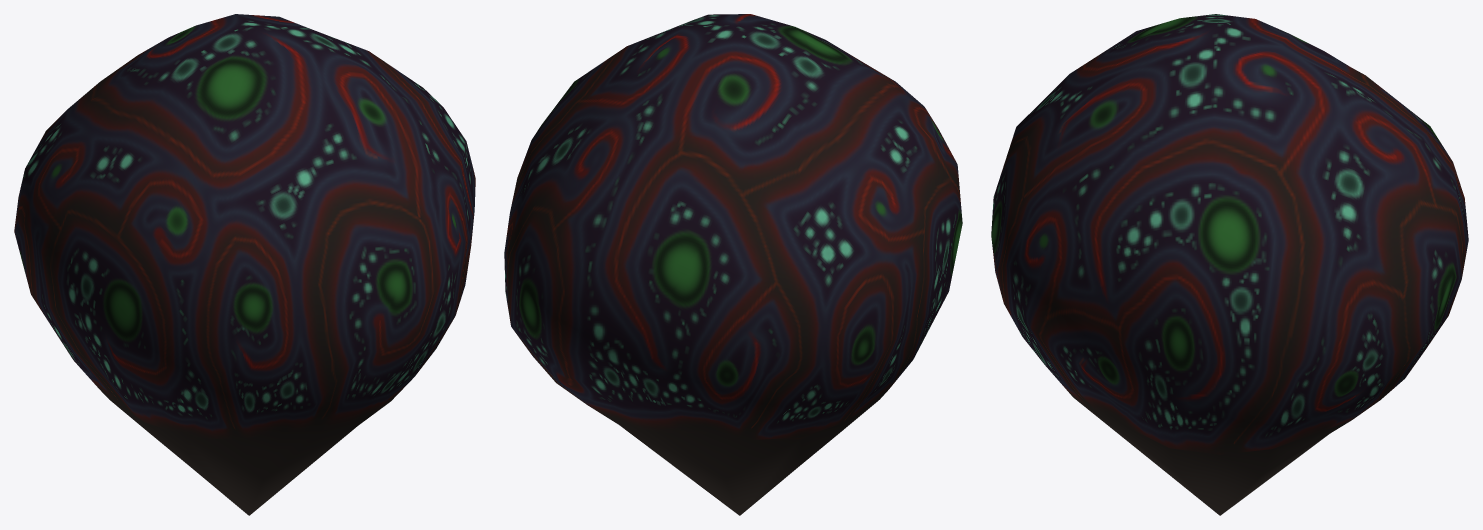
The model's file is mystical_truffles.DAE.
The picture shows the model from 3 angles, left to right: view 1: azimuth 30°, elevation 25°; view 2: azimuth 150°, elevation 25°; view 3: azimuth 270°, elevation 25°; orthographic projection.
Parts seen in each view (by area): view 1: mystical_truffles_PIVOT; view 2: mystical_truffles_PIVOT; view 3: mystical_truffles_PIVOT.
Part boxes in pixels (x1=…): mystical_truffles_PIVOT: x1=14, y1=14, x2=475, y2=515; mystical_truffles_PIVOT: x1=504, y1=14, x2=962, y2=515; mystical_truffles_PIVOT: x1=991, y1=14, x2=1468, y2=515.
Bounding box in the file's own units: 0.8032 × 0.8322 × 0.9457.
Materials: 1 (1 with a texture image).
